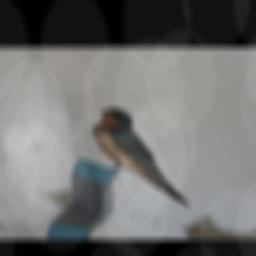Swallow: (68, 103, 223, 209)
